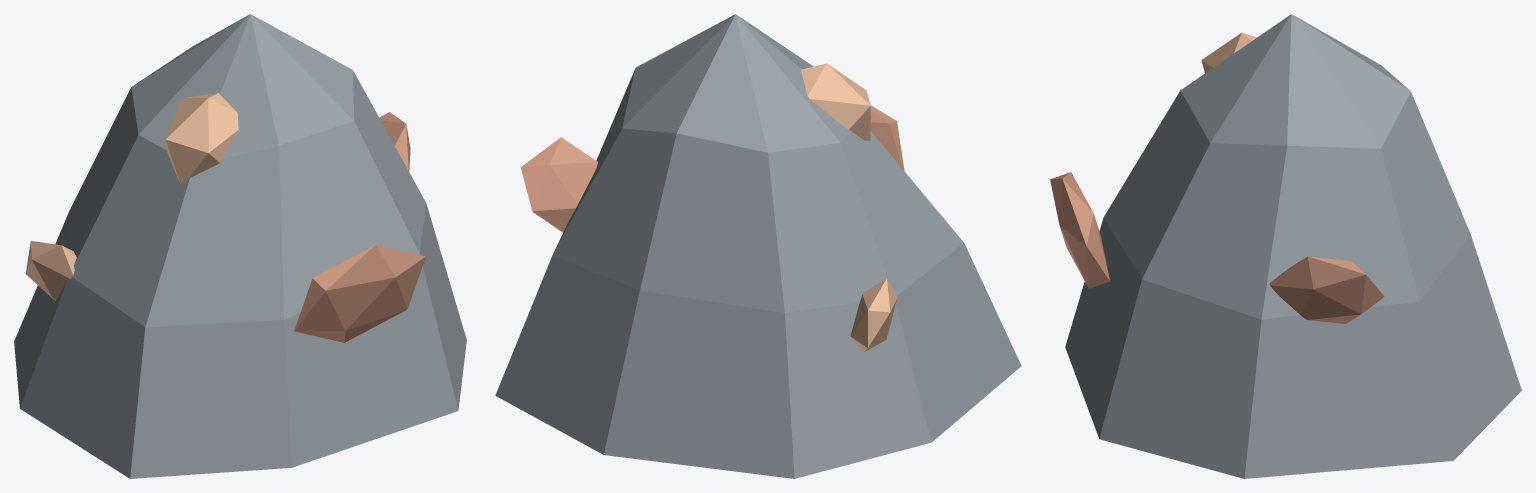
The model's file is FTF_Resource_IronOre_Node.glb.
3 renders of one model, left to right at view 1: azimuth 30°, elevation 25°; view 2: azimuth 150°, elevation 25°; view 3: azimuth 270°, elevation 25°, orthographic. The views are drawn at different scales.
Visible parts, largest first — view 1: OreRockBody, OreVeinFront, OreVeinUpper, OreVeinLeft, OreVeinRight; view 2: OreRockBody, OreVeinRight, OreVeinUpper, OreVeinLeft, OreVeinFront; view 3: OreRockBody, OreVeinRight, OreVeinFront, OreVeinUpper.
Part boxes in pixels (box(x1,y1,x2,y2)): OreRockBody: box(14, 14, 466, 478); OreVeinFront: box(294, 245, 425, 342); OreVeinUpper: box(165, 93, 238, 184); OreVeinLeft: box(25, 241, 76, 300); OreVeinRight: box(379, 112, 410, 171); OreRockBody: box(495, 14, 1021, 478); OreVeinRight: box(520, 137, 597, 232); OreVeinUpper: box(801, 63, 870, 140); OreVeinLeft: box(850, 278, 897, 351); OreVeinFront: box(870, 105, 904, 170); OreRockBody: box(1065, 14, 1521, 478); OreVeinRight: box(1269, 256, 1384, 323); OreVeinFront: box(1050, 172, 1109, 288); OreVeinUpper: box(1201, 32, 1256, 72).
Bounding box in the file's own units: 1.13 × 0.95 × 1.11.
